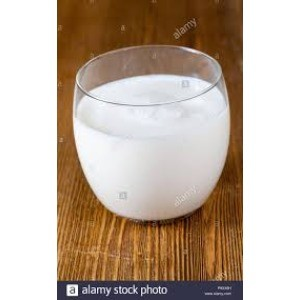milk_brain food: (75, 69, 230, 228)
